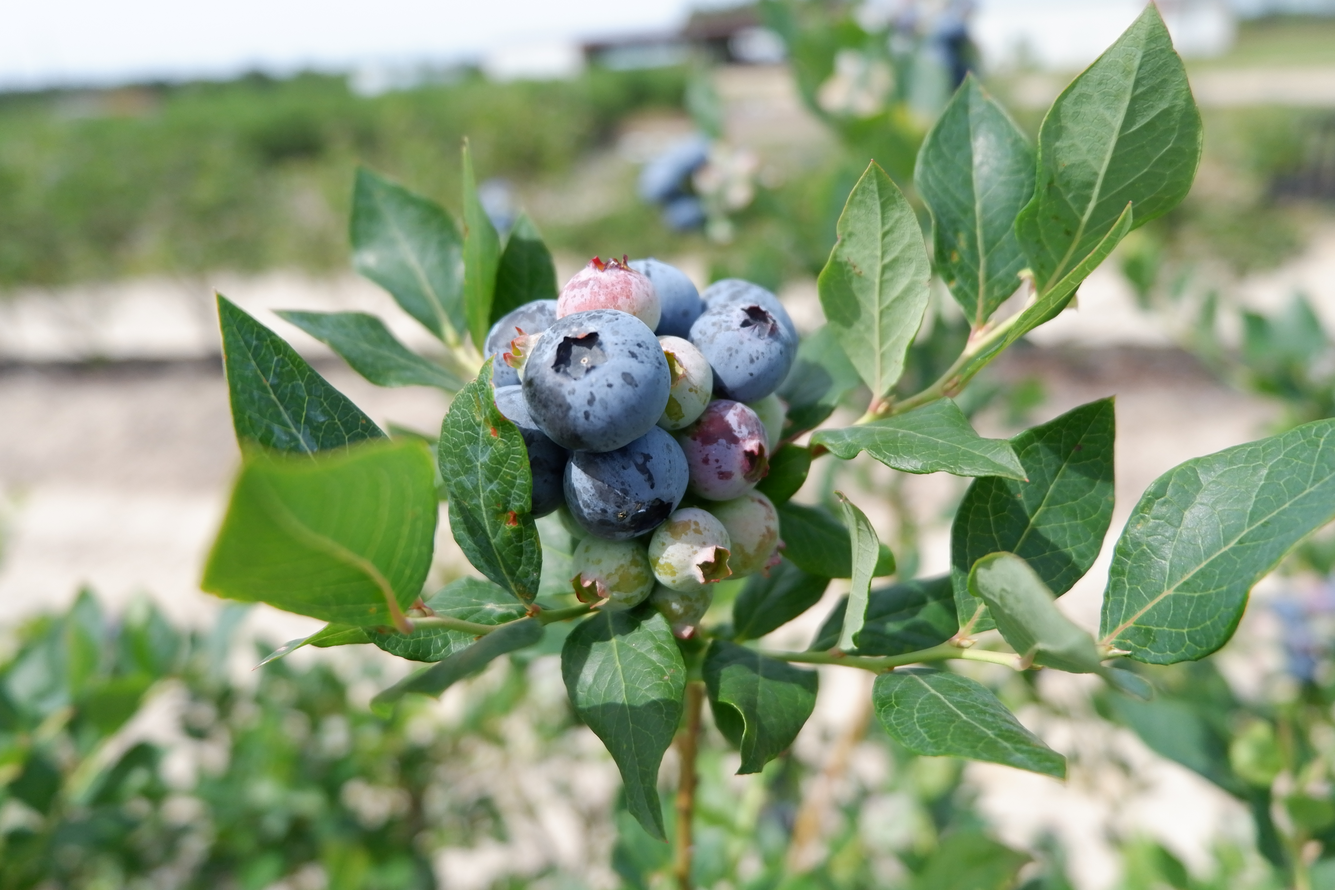Immature: (679, 403, 768, 498), (561, 256, 657, 326), (650, 510, 729, 588), (707, 493, 782, 574), (575, 538, 651, 605), (661, 338, 712, 428), (647, 581, 715, 639), (748, 395, 786, 454), (558, 500, 590, 544)
Mature: (524, 310, 665, 450), (564, 430, 685, 538), (691, 282, 797, 399), (483, 295, 560, 388), (641, 258, 700, 338), (523, 430, 566, 517), (493, 386, 542, 433)
